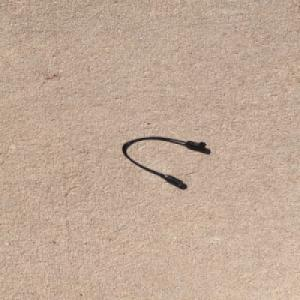Wire: (119, 135, 208, 187)
